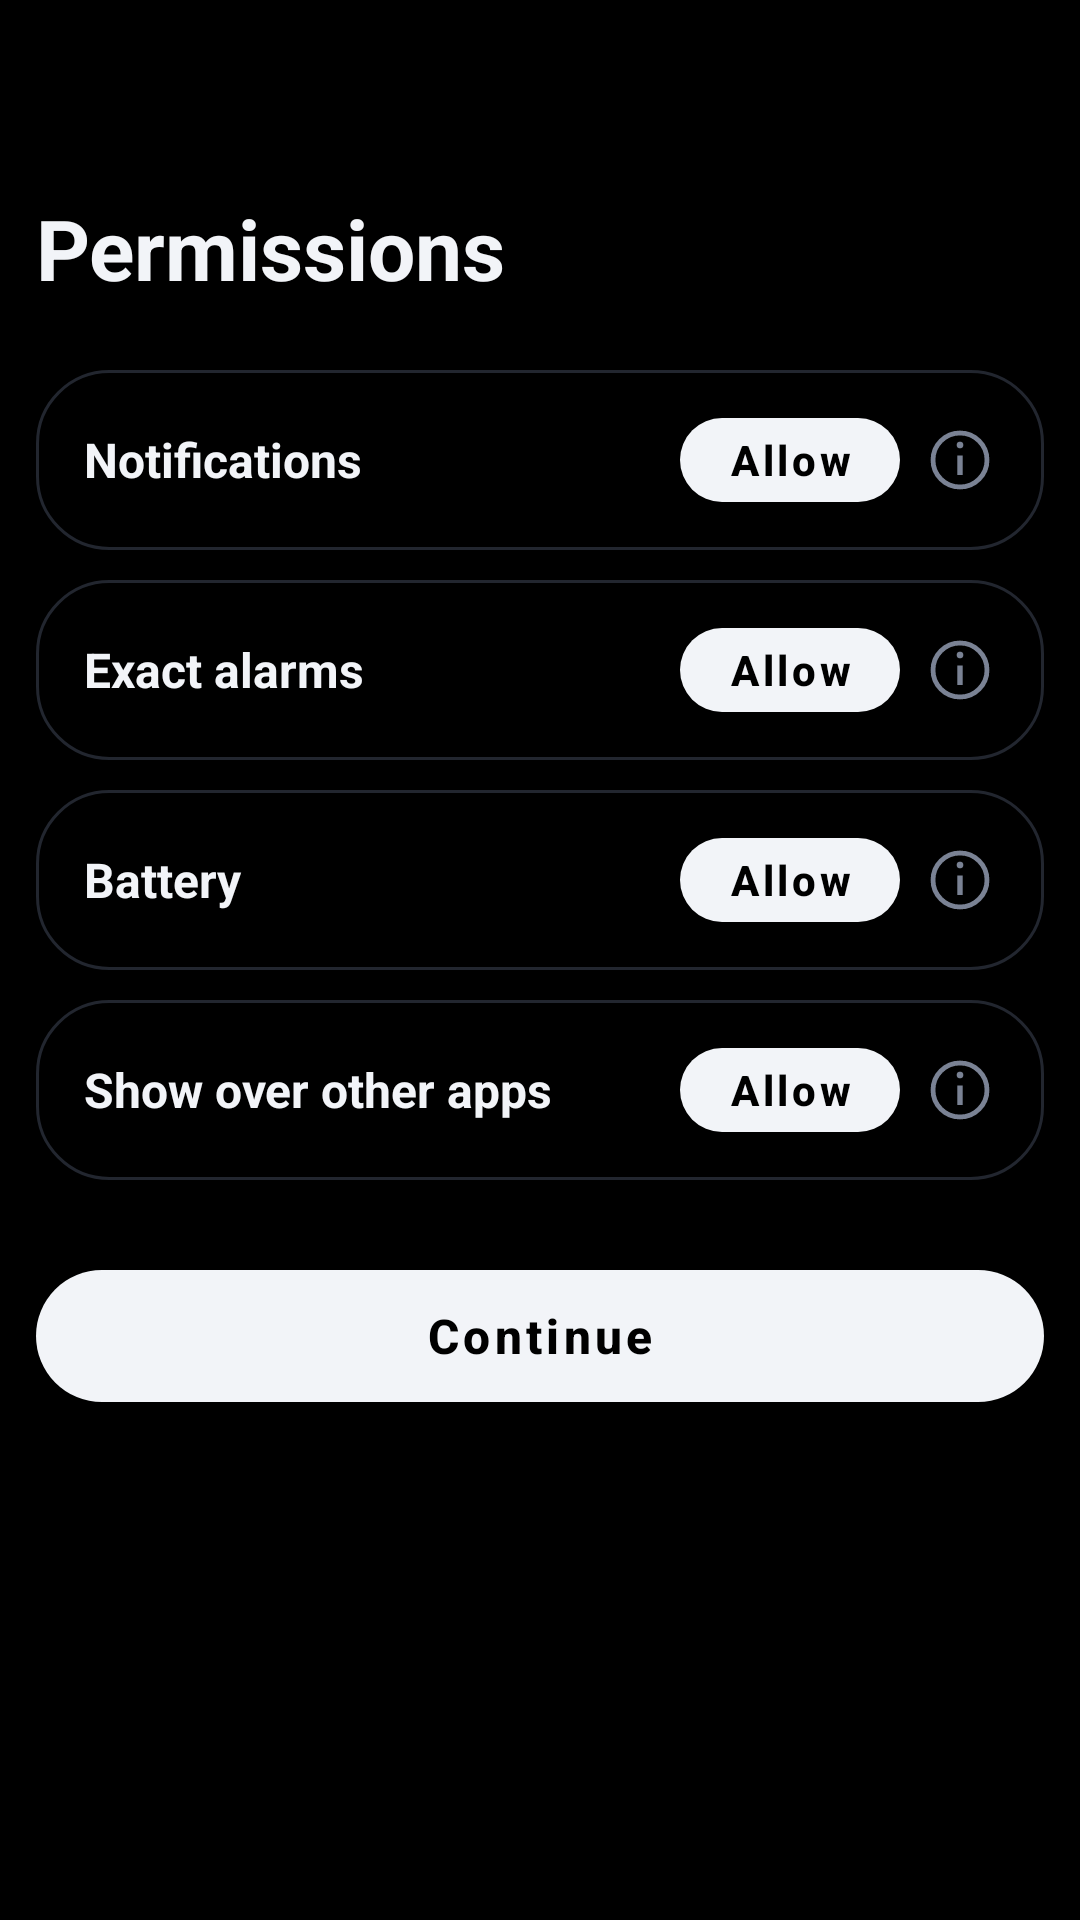

Screen size 1080px×1920px. Icon name, then its center in pixels as point (x, y):
Why: point (960, 460), point (960, 670), point (960, 880), point (960, 1090)
